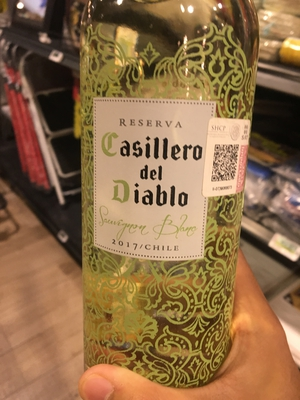casillero del diablo sauvignon blanc: (66, 12, 263, 400)
